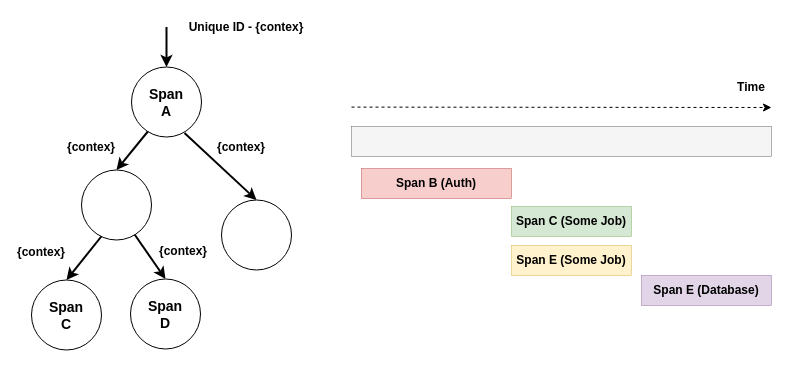
The diagram is 798 pixels wide and 368 high, and some of its shapes have lost their labels. The shapes that lost their labels are listed below. From the top down, each one's box as (x1, y1, x2, y2) in pixels, then its label:
(351, 126, 771, 156): Span A (API Hit)
(80, 169, 152, 240): Span B
(220, 199, 292, 270): Span E
